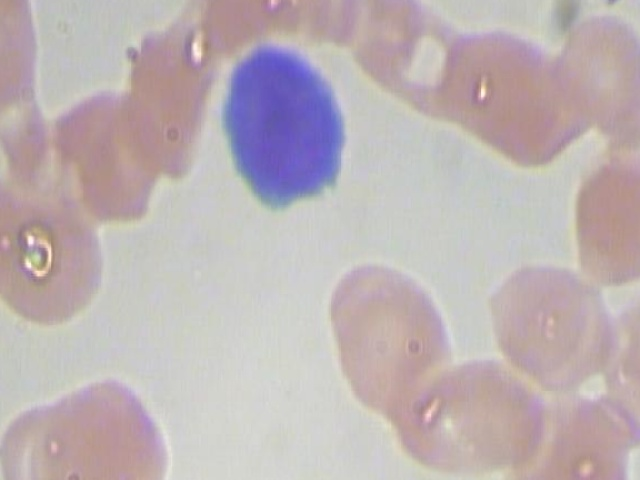RBC: (314, 255, 463, 427), (390, 348, 553, 476), (483, 253, 625, 394), (12, 367, 185, 480), (0, 195, 112, 331), (430, 11, 544, 143), (476, 39, 589, 172), (540, 4, 640, 137)
WBC: (205, 39, 358, 232)
